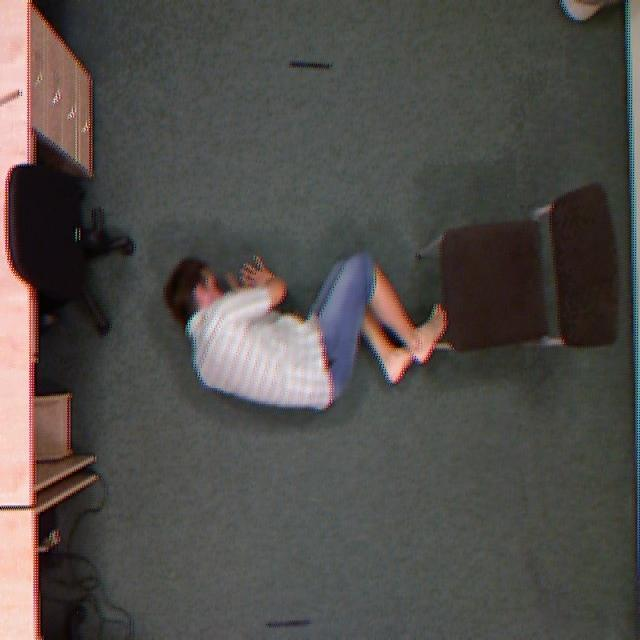fall detected: (150, 221, 475, 419)
